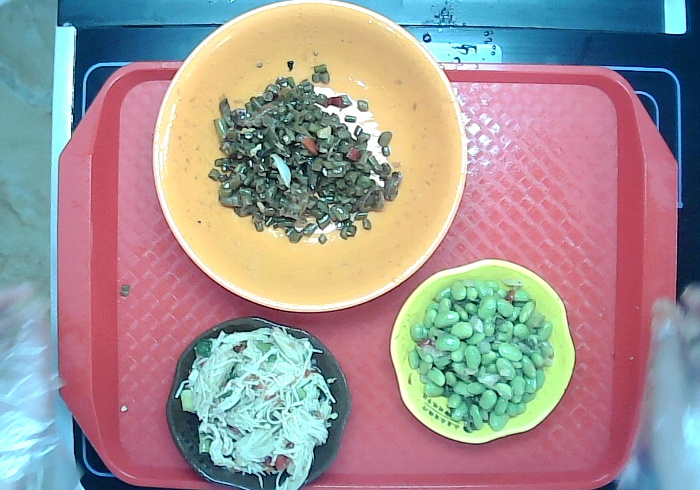YKMZ-Huang_Se_Ao_Bian_Wan: (387, 256, 578, 448)
YKMZ-Ju_Se_Tang_Wan: (149, 1, 472, 318)
YKMZ-Ka_Fei_Ao_Bian_Wan: (161, 312, 356, 490)
